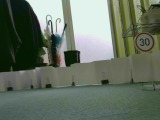speed_30: (133, 32, 155, 53)
